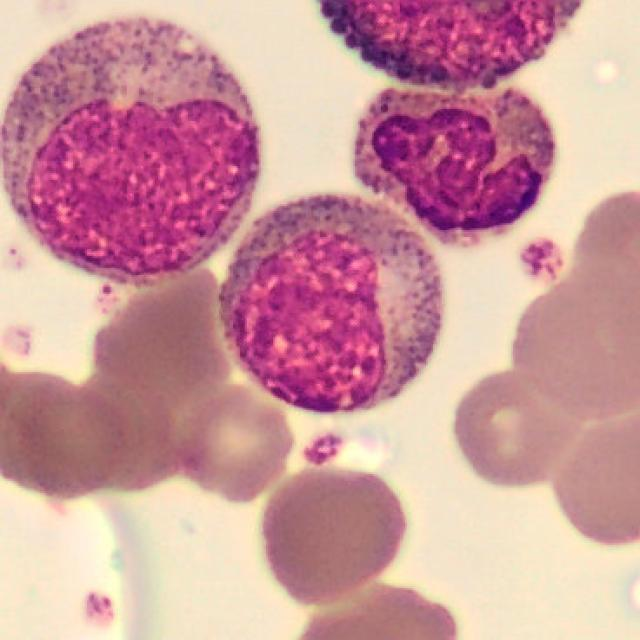Mielocito: (217, 194, 442, 415)
Neutrofilo segmentado: (355, 90, 557, 239)
